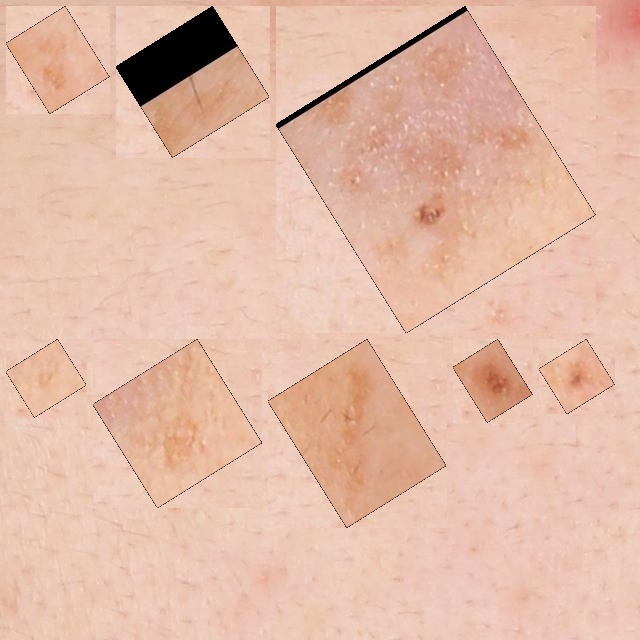melasma: (287, 17, 584, 322), (279, 350, 435, 516), (104, 350, 251, 497), (127, 17, 258, 146), (17, 17, 98, 102), (464, 350, 521, 411), (17, 350, 75, 406), (550, 350, 604, 403)
